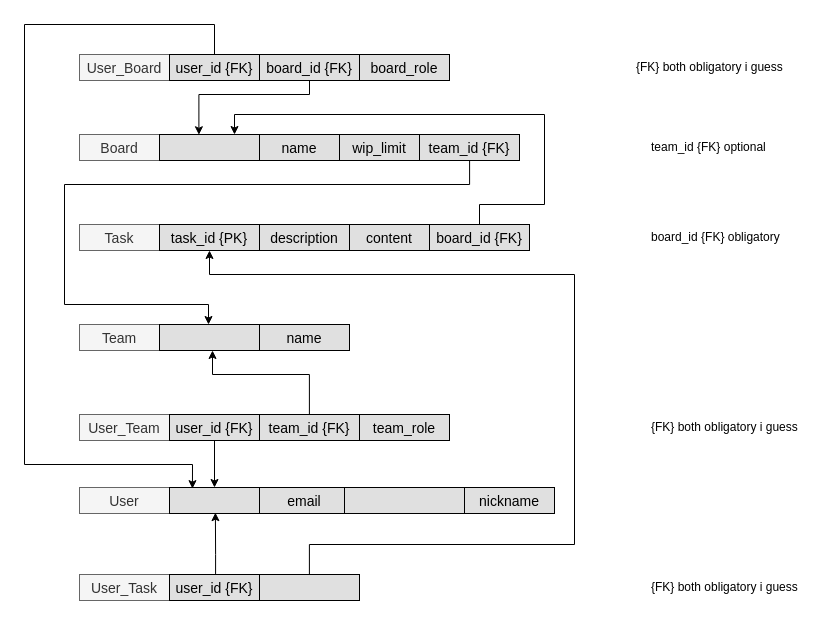
Image size: 827x618. Some labels were removed from this diagram. Here are the shapes that lost their labels. From the top down, the box of each, then its label:
(158, 134, 260, 160): board_id {PK}
(158, 324, 260, 350): team_id {PK}
(168, 486, 260, 514): user_id {PK}
(344, 486, 464, 514): password_hash
(258, 574, 360, 600): task_id {FK}
